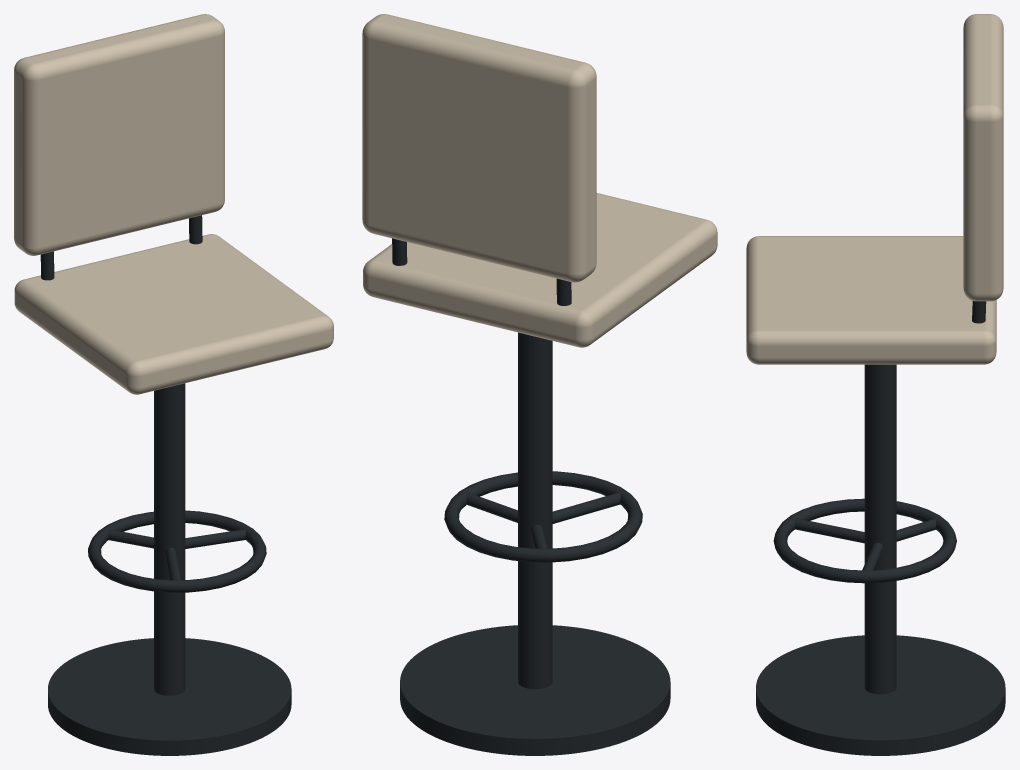
File: barStool-3.glb
The picture shows the model from 3 angles, left to right: view 1: azimuth 30°, elevation 25°; view 2: azimuth 150°, elevation 25°; view 3: azimuth 270°, elevation 25°; orthographic projection. The views are drawn at different scales.
Parts seen in each view (by area): view 1: barStool:3:archviz; view 2: barStool:3:archviz; view 3: barStool:3:archviz.
Part boxes in pixels (x1,y1,x2,y2): barStool:3:archviz: (14,14,333,755); barStool:3:archviz: (362,14,717,755); barStool:3:archviz: (746,14,1005,755).
Size of the model in its own units: 0.4042 by 1.15 by 0.4196.
